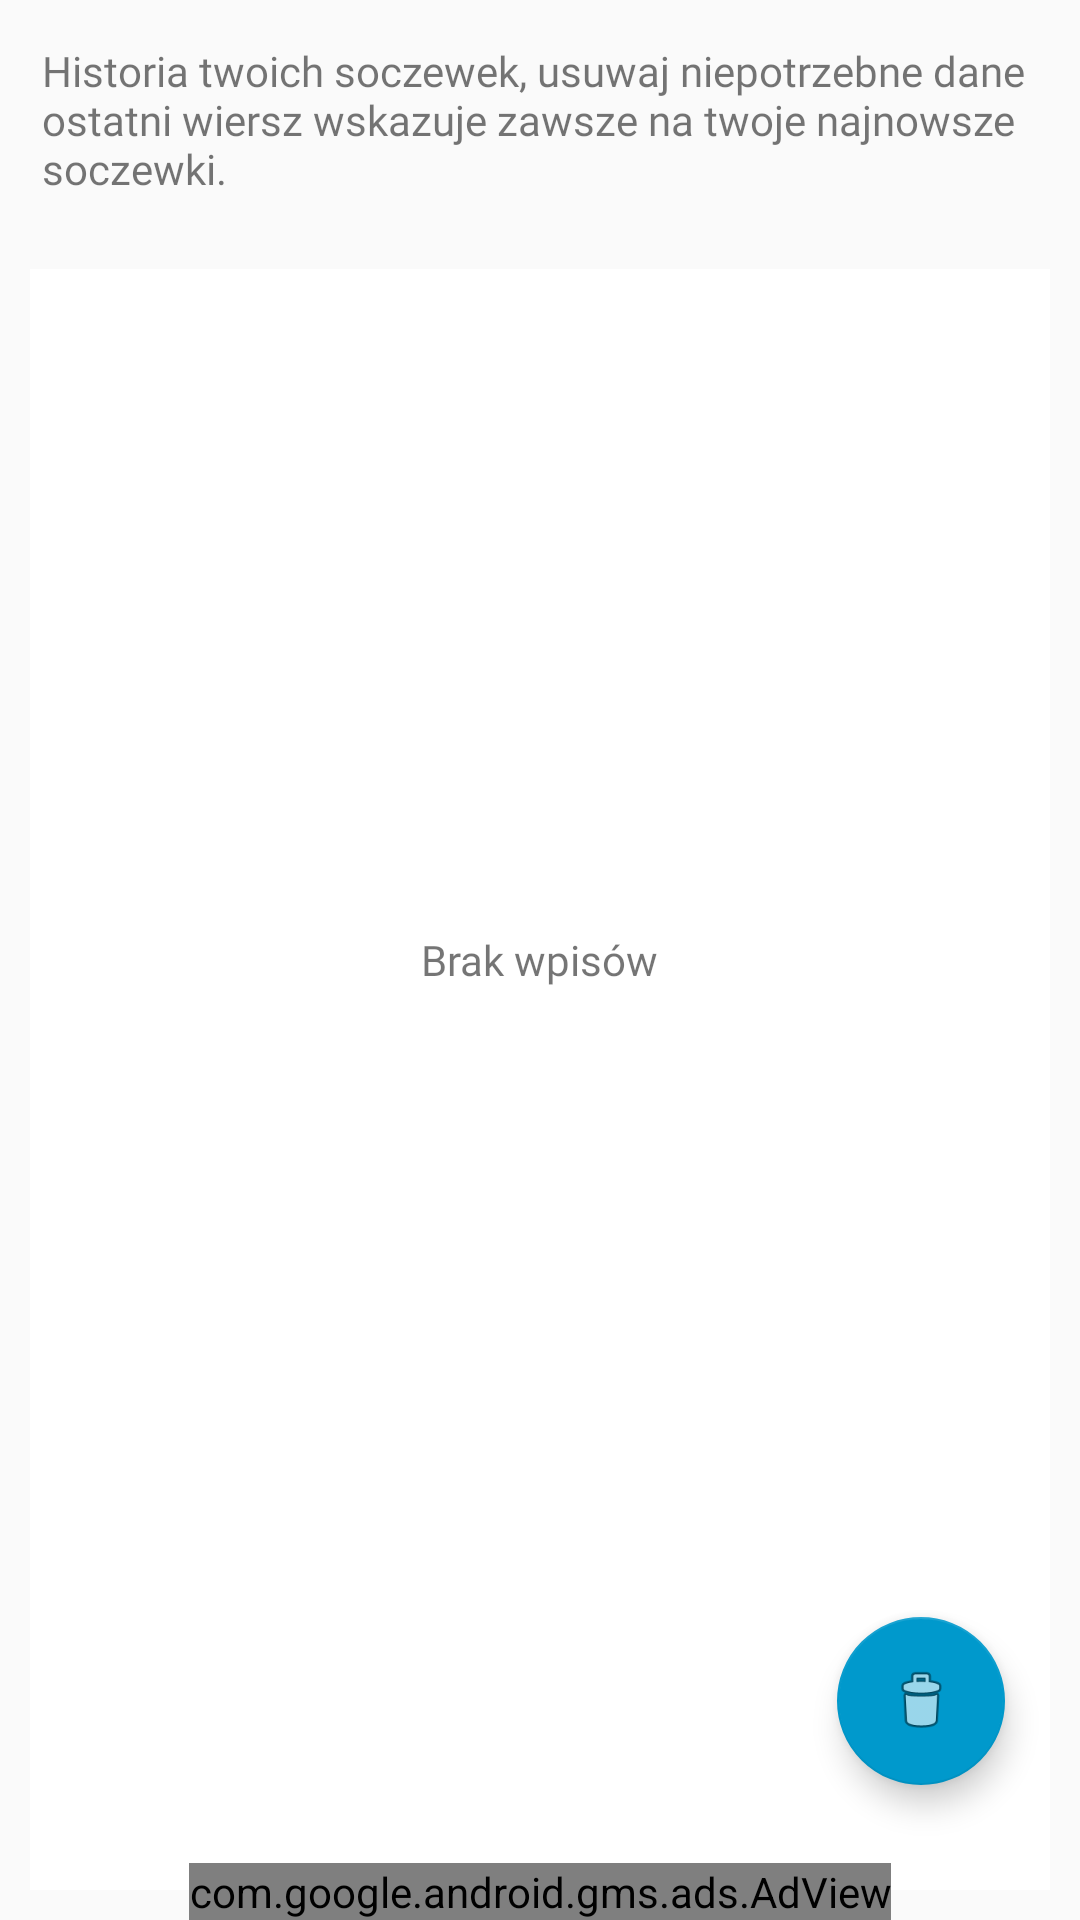

Screen size 1080*1920. Icon name, then its box in pixels as (x1, y1, x2, y2):
delete: (837, 1617, 1005, 1785)
